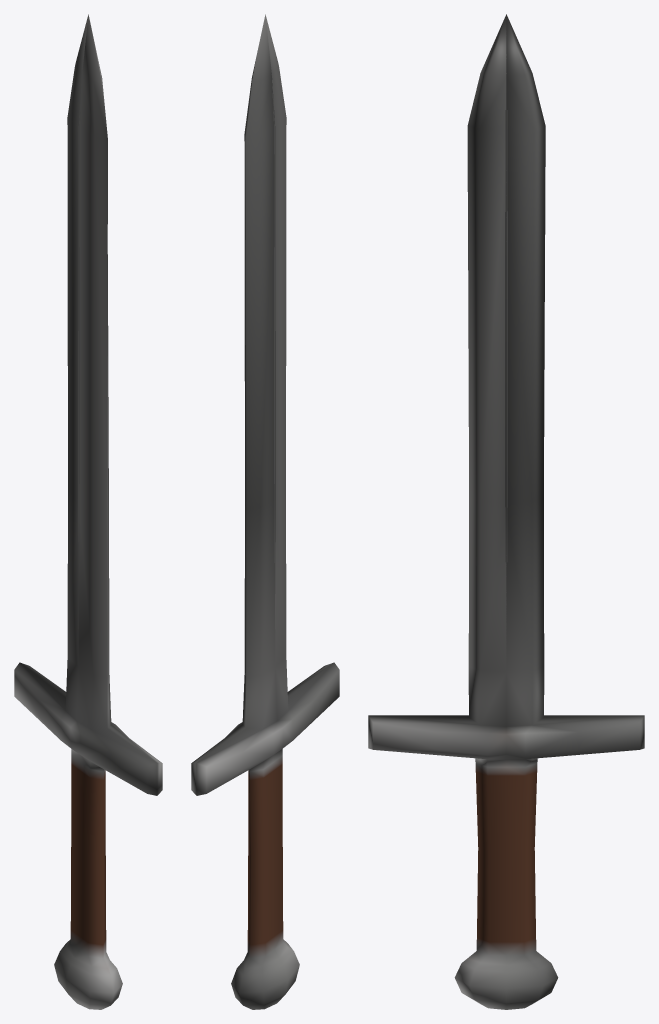
The model's file is stoneSword.fbx.
3 renders of one model, left to right at view 1: azimuth 30°, elevation 25°; view 2: azimuth 150°, elevation 25°; view 3: azimuth 270°, elevation 25°, orthographic.
Parts seen in each view (by area): view 1: Plane.005; view 2: Plane.005; view 3: Plane.005.
Part boxes in pixels (x1=…): Plane.005: x1=14, y1=14, x2=162, y2=1009; Plane.005: x1=191, y1=14, x2=339, y2=1009; Plane.005: x1=368, y1=14, x2=644, y2=1009.
Bounding box in the file's own units: 29.2 × 613 × 154.
